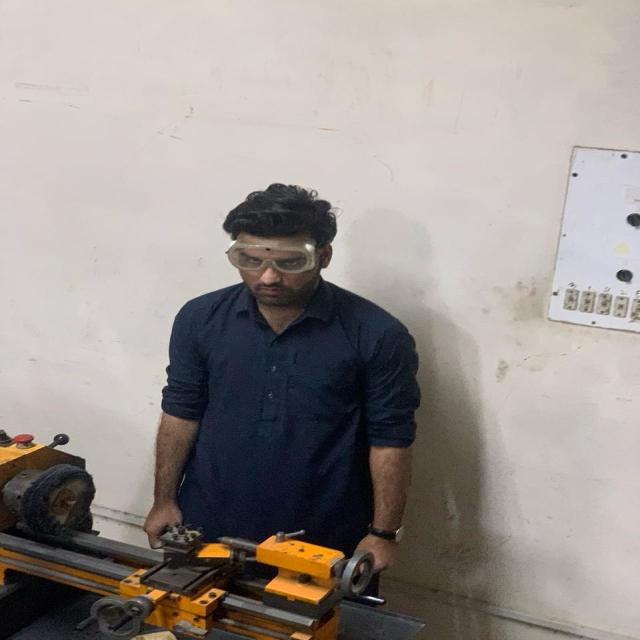googles: (220, 238, 327, 276)
